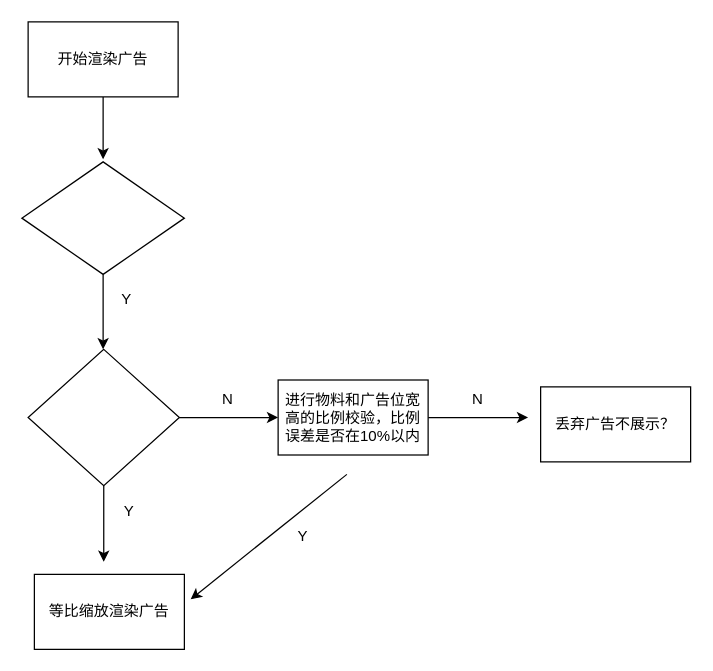
This 713x671 diagram has some shape labels left out. The shapes that lost their labels are listed below. From the top down, each one's centre as x and y in pixels, then its label:
At [102,217]: "媒体端Banner容器 宽高写死".
At [103,417]: "容器宽高和后台 申请的宽高一致".
